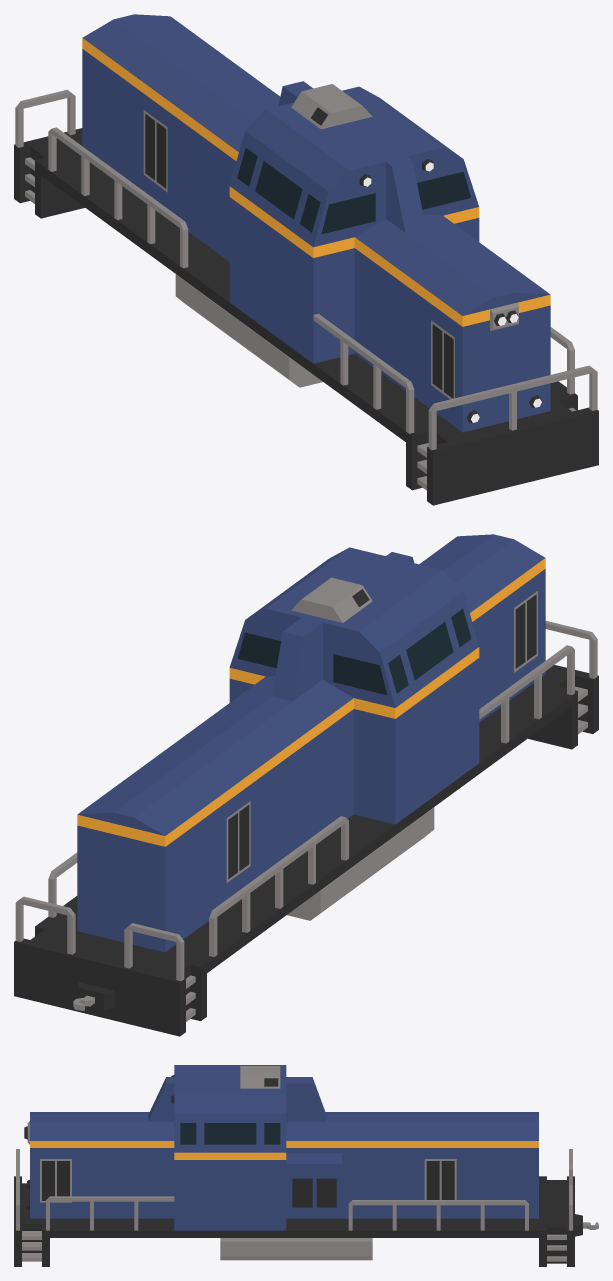
Rendered from freight-train-base.glb.
3 renders of one model, top to bottom at view 1: azimuth 30°, elevation 25°; view 2: azimuth 150°, elevation 25°; view 3: azimuth 270°, elevation 25°, orthographic. The views are drawn at different scales.
Parts seen in each view (by area): view 1: freight-train-base; view 2: freight-train-base; view 3: freight-train-base.
Boxes of the visible parts, x1,y1,x2,y2 form: freight-train-base: (14,14,598,505); freight-train-base: (14,534,598,1036); freight-train-base: (14,1065,598,1266).
Bounding box in the file's own units: 3.2 × 4.65 × 14.6.
Materials: 1 (1 with a texture image).
